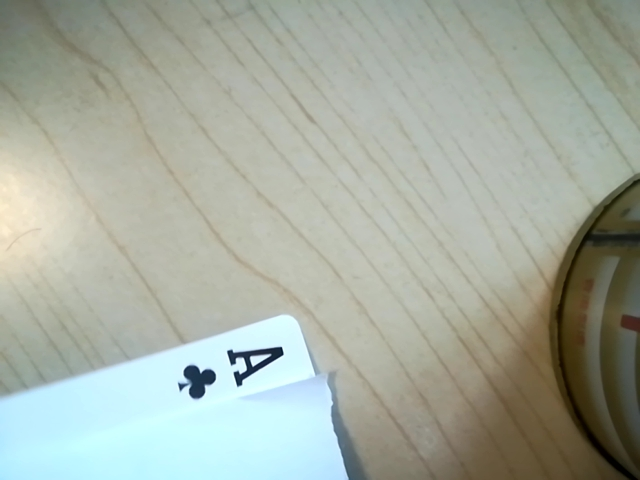mh a: (161, 331, 308, 404)
